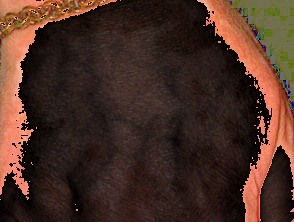vitiligo: (28, 12, 261, 218)
